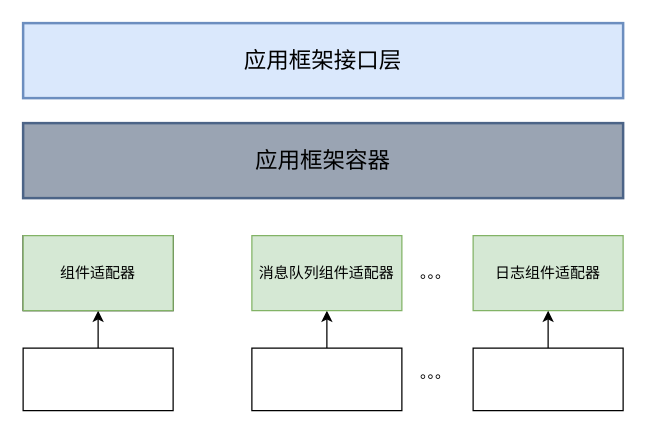
Image size: 645x433. Some labels were removed from this diagram. The centre of each missing label's shape, as x and y in pixels:
"log4j" goes at (547,379).
"RabbitMq" goes at (326,379).
"第三方组件实现" goes at (97,379).
